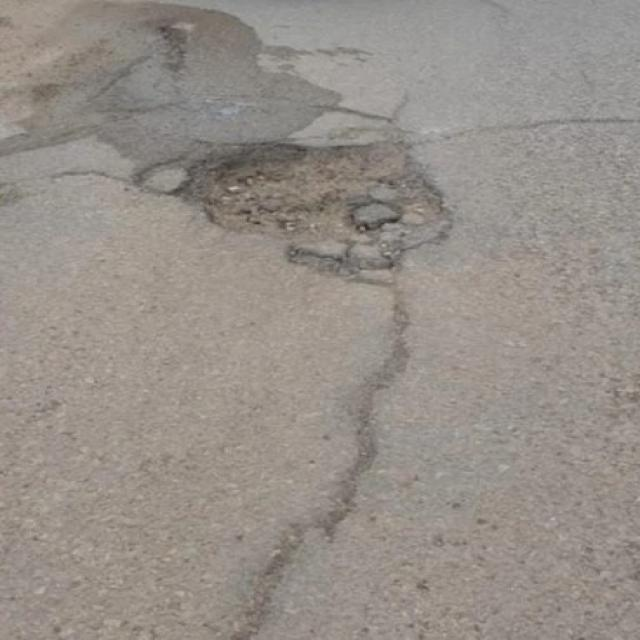major_pothole: (134, 129, 450, 288)
